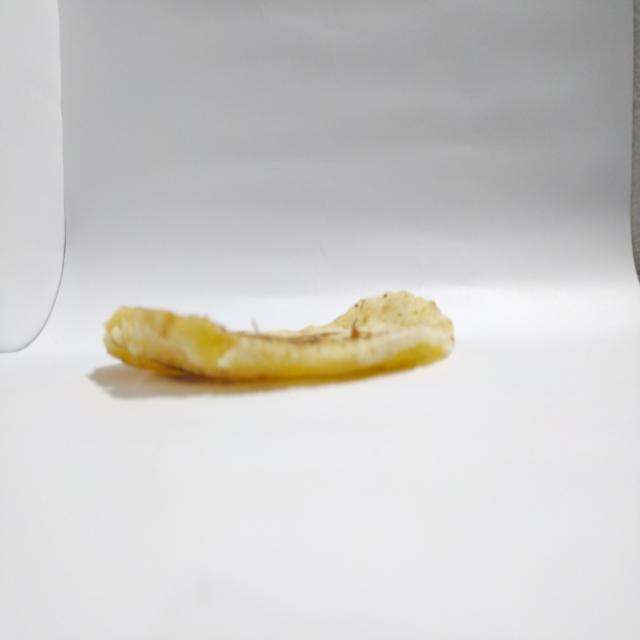Food: (94, 262, 464, 399)
